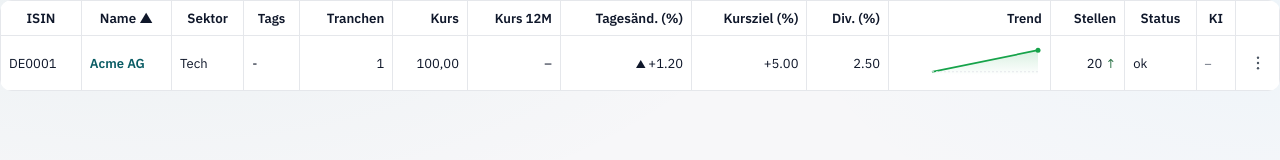
Test: WatchlistTable Stellen cell arrow behaviour › tooltip — hovering the Stellen cell reveals required tooltip content
Hover over the element with class "jobs-sparkline-cell" showing "20↑" at (1101, 63), box [1087,54,1116,72]
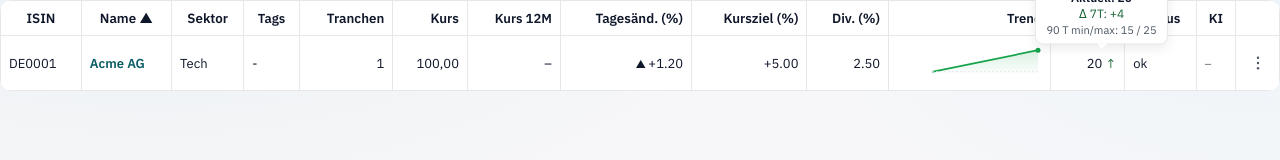
Now the tooltip shows "Δ 7T:", box [1079,6,1110,21]
Now the tooltip shows "min/max:", box [1046,22,1121,36]
